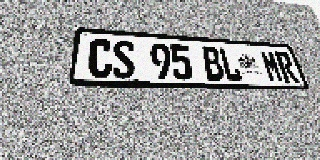5: (170, 44, 194, 80)
9: (150, 42, 173, 80)
B: (201, 46, 225, 81)
C: (87, 38, 112, 78)
L: (218, 47, 243, 81)
M: (259, 50, 285, 82)
R: (274, 51, 300, 83)
S: (112, 40, 135, 79)
